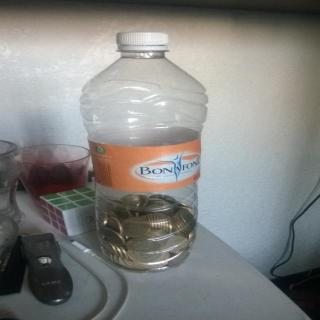Anorganik: (80, 28, 210, 270)
